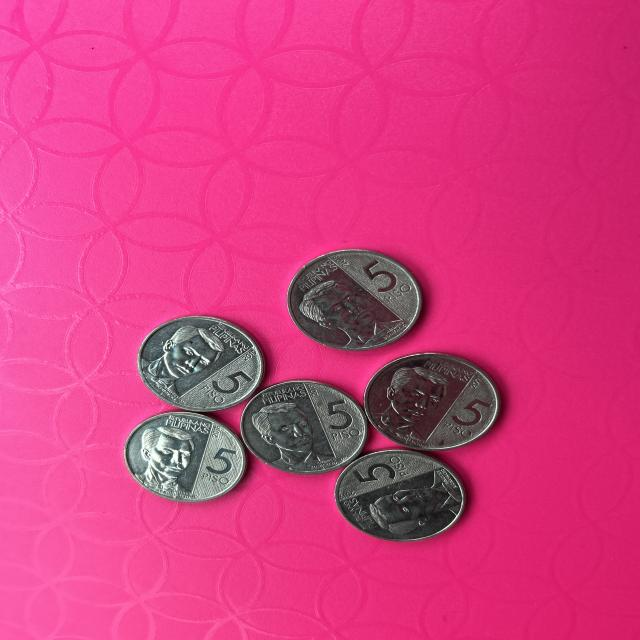5_New_Front: (310, 396, 370, 452), (356, 257, 408, 308), (197, 364, 251, 410), (440, 392, 490, 441), (346, 454, 410, 490), (199, 444, 244, 492)
